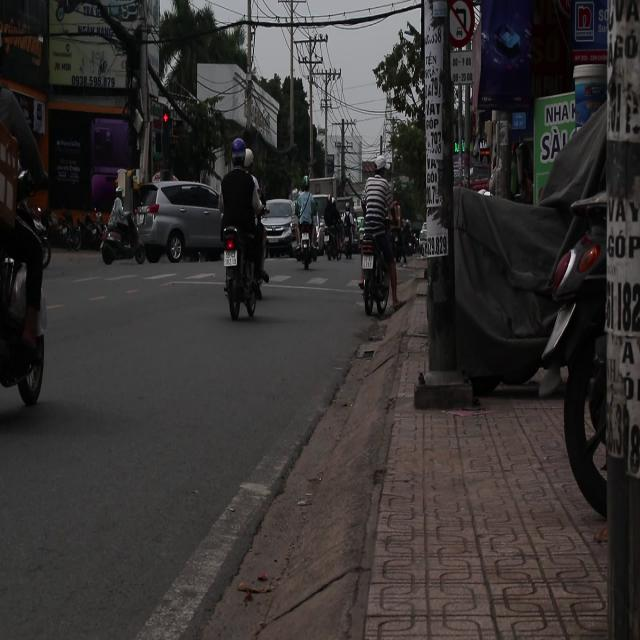car: (132, 182, 222, 266), (260, 199, 298, 254)
motorbike: (0, 141, 60, 428), (359, 215, 403, 322), (220, 224, 264, 321), (311, 194, 346, 266)
